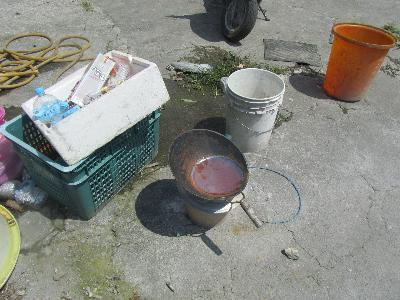bottle: (32, 85, 60, 124)
bowl: (169, 128, 250, 202)
box: (68, 52, 115, 107)
bucket: (319, 22, 397, 104), (219, 67, 286, 159)
styrofoam: (18, 49, 171, 166)
tire: (219, 1, 261, 46)
